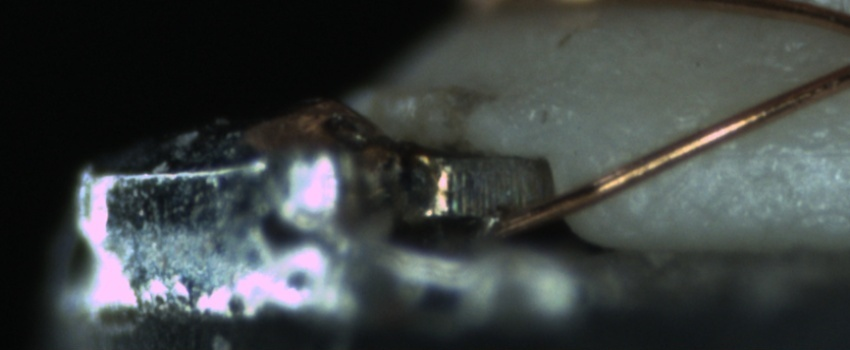DL: (721, 120, 849, 181)
